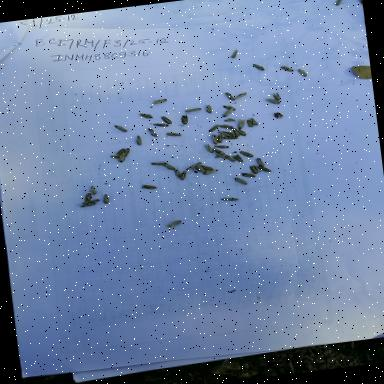pbw: (217, 194, 244, 204), (231, 174, 248, 188), (146, 124, 162, 138), (263, 94, 283, 105), (216, 126, 234, 138), (203, 140, 217, 155), (256, 161, 272, 174), (292, 66, 309, 78), (180, 161, 200, 171), (184, 103, 204, 113), (138, 182, 158, 192), (136, 110, 158, 119), (160, 114, 177, 125), (111, 122, 128, 133), (231, 90, 248, 101), (230, 150, 244, 163), (87, 182, 100, 196), (164, 218, 182, 228), (149, 97, 169, 106), (238, 148, 256, 158), (240, 170, 258, 180), (151, 120, 173, 128), (241, 116, 253, 130), (170, 167, 184, 179), (164, 129, 182, 138), (202, 167, 220, 176), (279, 62, 295, 72), (250, 62, 266, 72), (222, 106, 238, 116), (160, 160, 176, 170), (235, 118, 248, 130), (247, 163, 260, 175), (178, 113, 191, 125), (223, 90, 237, 101), (176, 169, 190, 180), (78, 197, 100, 204), (246, 115, 260, 126), (132, 132, 144, 144), (200, 162, 216, 171), (115, 152, 127, 164), (205, 102, 216, 115), (192, 164, 206, 174), (256, 156, 266, 170), (213, 142, 230, 150), (222, 102, 239, 110), (100, 192, 111, 204), (120, 147, 133, 157), (224, 152, 237, 162), (206, 122, 219, 132), (150, 159, 168, 166), (236, 126, 247, 137), (226, 49, 238, 59), (76, 202, 96, 208), (223, 134, 237, 142), (220, 122, 234, 130), (114, 146, 125, 156), (213, 151, 226, 159), (215, 132, 225, 142), (82, 192, 92, 202), (272, 90, 282, 100), (210, 132, 218, 144), (106, 152, 122, 158), (330, 0, 347, 5), (232, 125, 238, 136)
